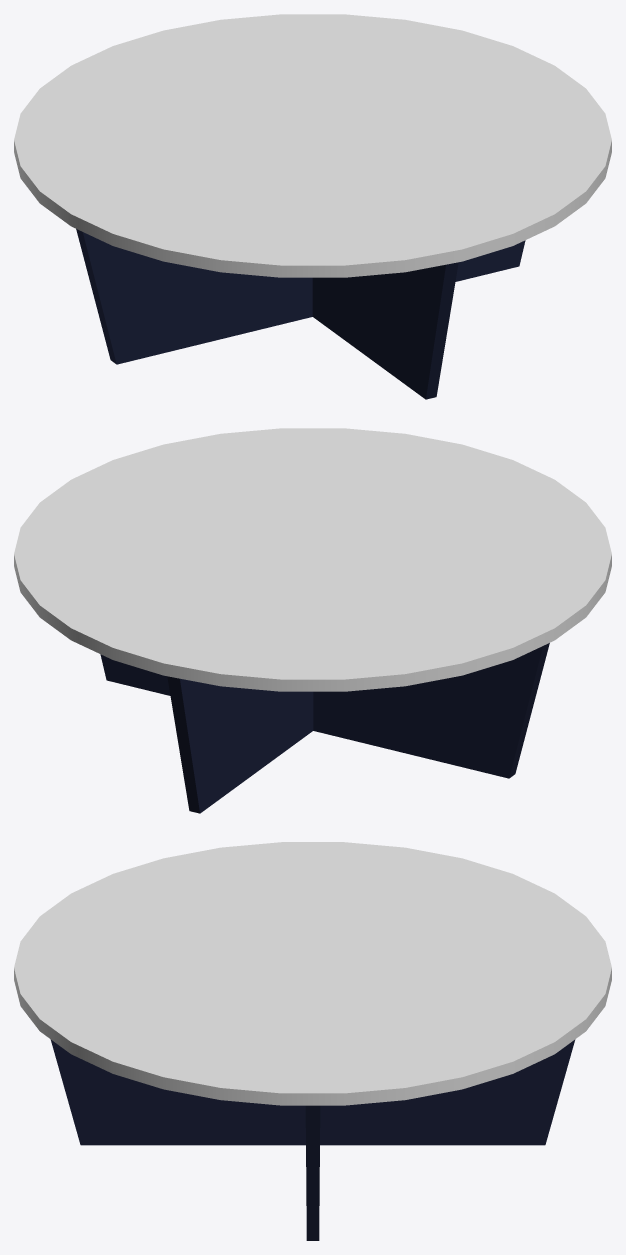
The model's file is YuvarlakMasa.fbx.
3 views of the same model, one above another, from view 1: azimuth 30°, elevation 25°; view 2: azimuth 150°, elevation 25°; view 3: azimuth 270°, elevation 25° (orthographic).
Parts seen in each view (by area): view 1: k.masa; view 2: k.masa; view 3: k.masa.
Part boxes in pixels (x1,y1,x2,y2): k.masa: (14,14,611,399); k.masa: (14,428,611,813); k.masa: (14,842,611,1240).
Bounding box in the file's own units: 138 × 44.39 × 138.
